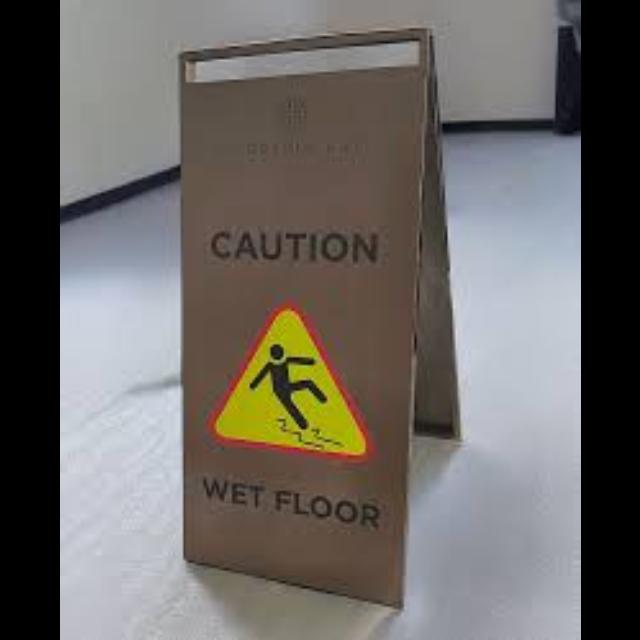slippery_floor: (182, 28, 457, 607)
